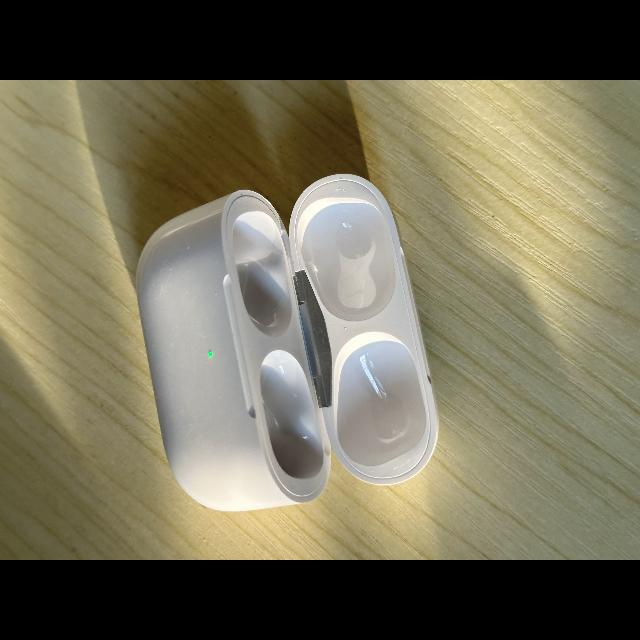AirPods Pro: (137, 174, 438, 512)
